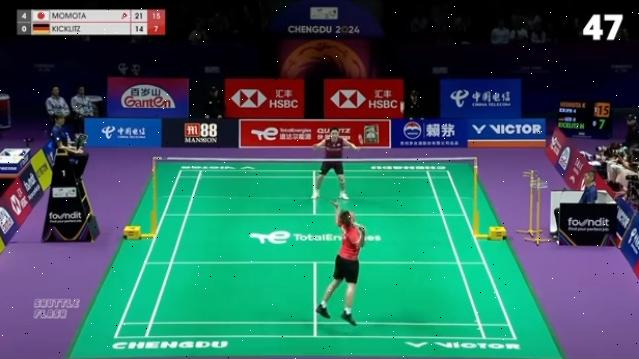Shuttlecock: (398, 99, 408, 112)
